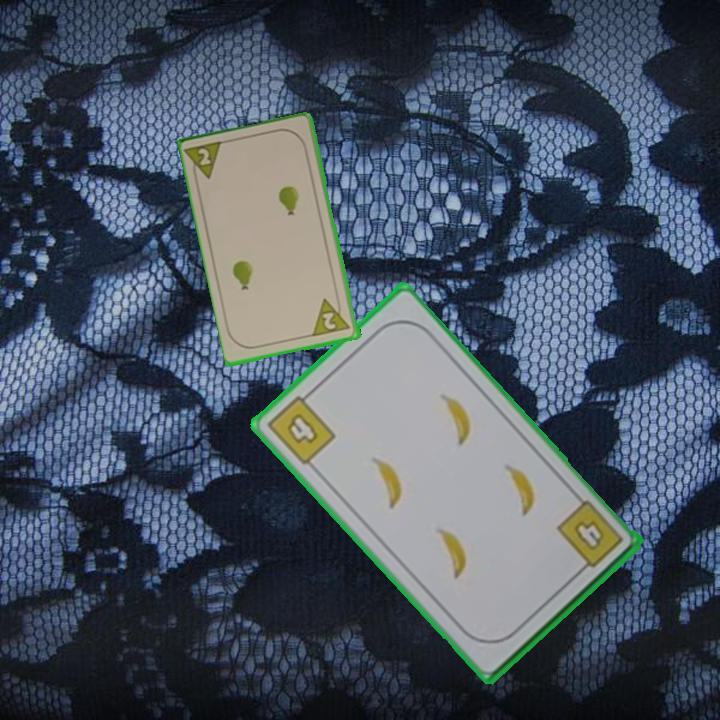2p: (183, 137, 227, 185), (310, 293, 353, 339)
4b: (263, 386, 339, 468), (552, 496, 627, 577)
